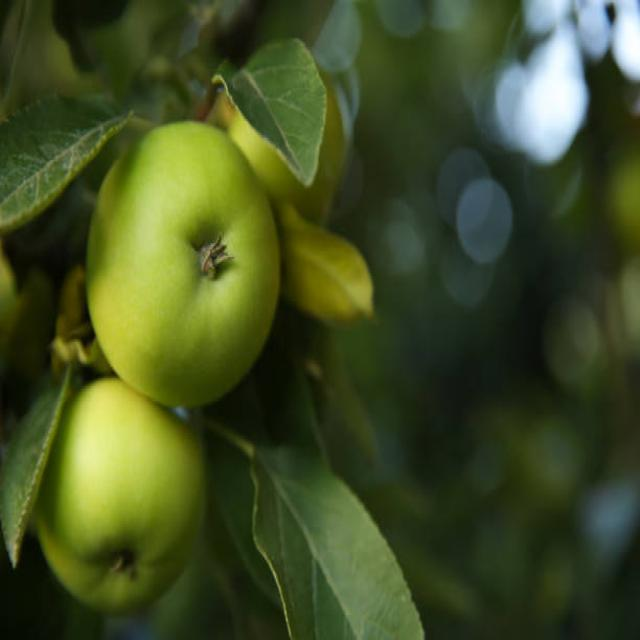Unripe: (84, 115, 279, 408), (35, 378, 207, 616)
